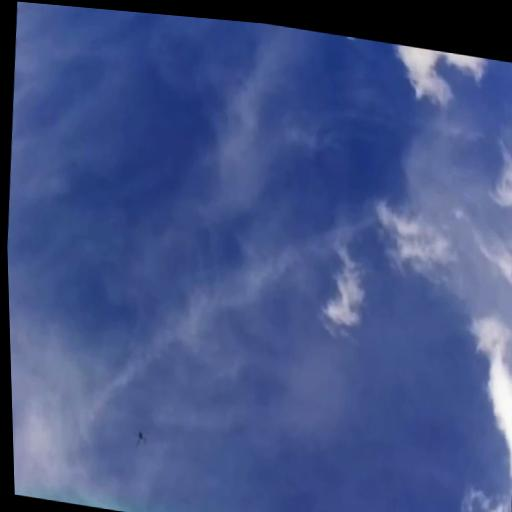drones: (132, 427, 150, 451)
